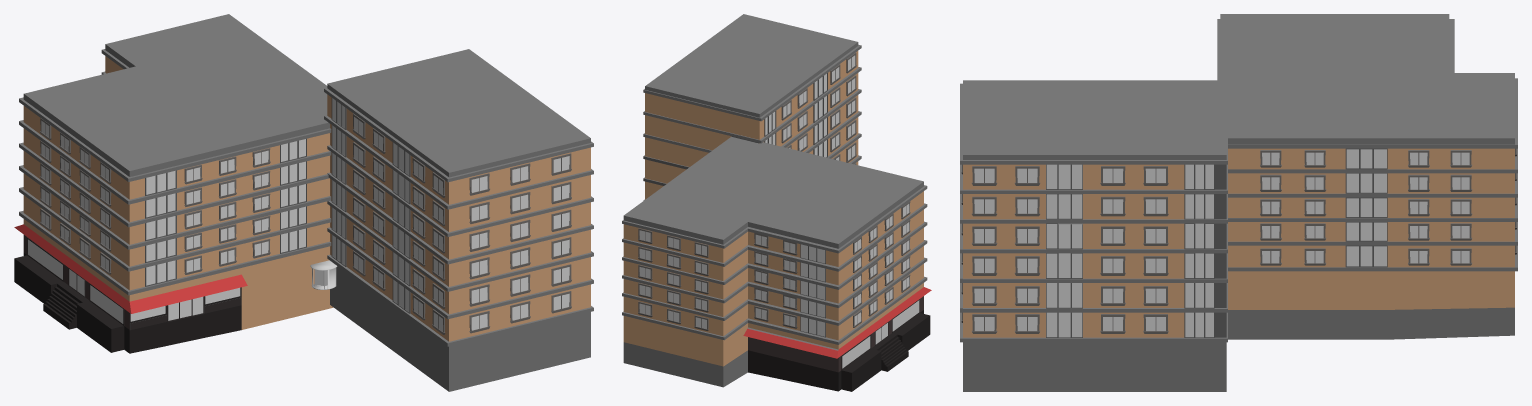
Rendered from revampApart.fbx.
3 renders of one model, left to right at view 1: azimuth 30°, elevation 25°; view 2: azimuth 150°, elevation 25°; view 3: azimuth 270°, elevation 25°, orthographic. The views are drawn at different scales.
Visible parts, largest first — view 1: Cube.001, Cube, windows.010, windows.046, windows.020, windows.006, cafe.001; view 2: Cube.001, Cube, windows.008, windows.006, windows.046, windows.007; view 3: Cube.001, Cube, windows.011, windows.009.
Boxes of the visible parts, x1,y1,x2,y2 form: Cube.001: (14,14,333,353); Cube: (324,49,593,391); windows.010: (469,153,571,333); windows.046: (352,113,445,334); windows.020: (184,148,270,274); windows.006: (40,118,111,274); cafe.001: (310,260,337,289); Cube.001: (622,136,931,391); Cube: (643,14,861,200); windows.008: (638,228,708,330); windows.006: (853,201,910,327); windows.046: (781,52,856,164); windows.007: (754,233,797,328); Cube.001: (1217,14,1517,339); Cube: (960,80,1227,391); windows.011: (971,166,1168,333); windows.009: (1260,150,1472,265).
Bounding box in the file's own units: 9992 × 5823 × 12217.
